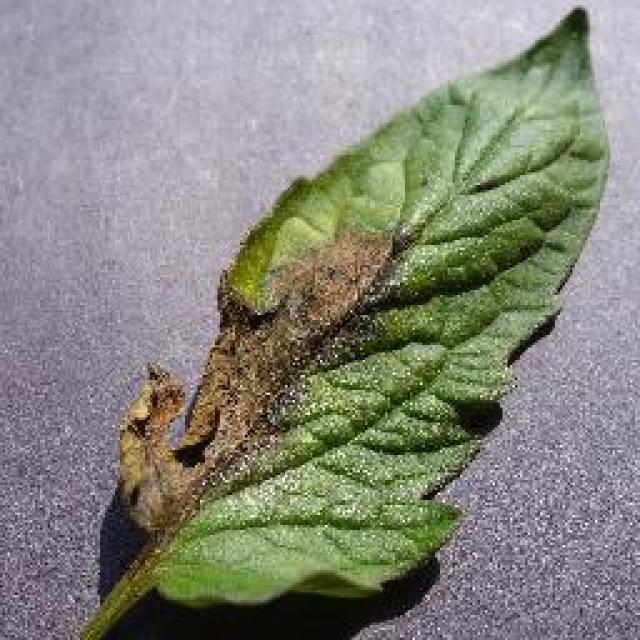Tomato___Late_blight: (83, 8, 613, 638)
